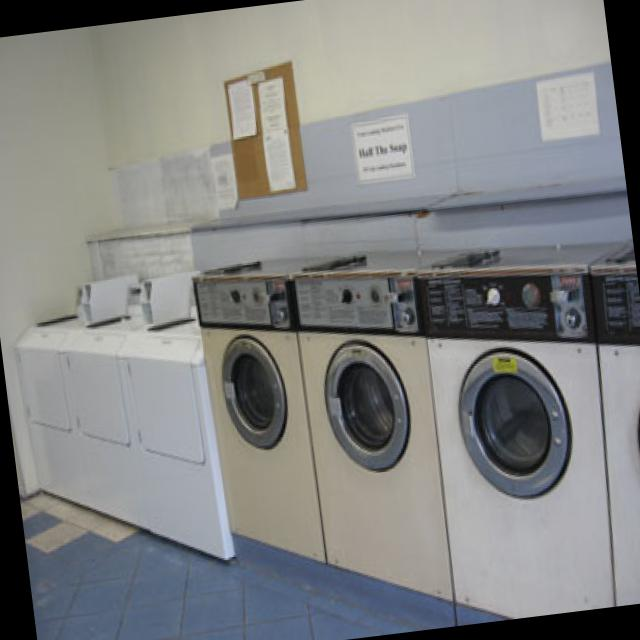board occluded: (221, 60, 305, 197)
bulletin board: (255, 73, 294, 189), (534, 70, 597, 136), (225, 75, 255, 140)
floor -X: (21, 438, 640, 640)
text: (349, 112, 413, 180)
tumble dryer occluded: (11, 295, 230, 560)
wall clock: (89, 0, 640, 533), (0, 26, 133, 498)
washing machine crop: (193, 237, 640, 625)
